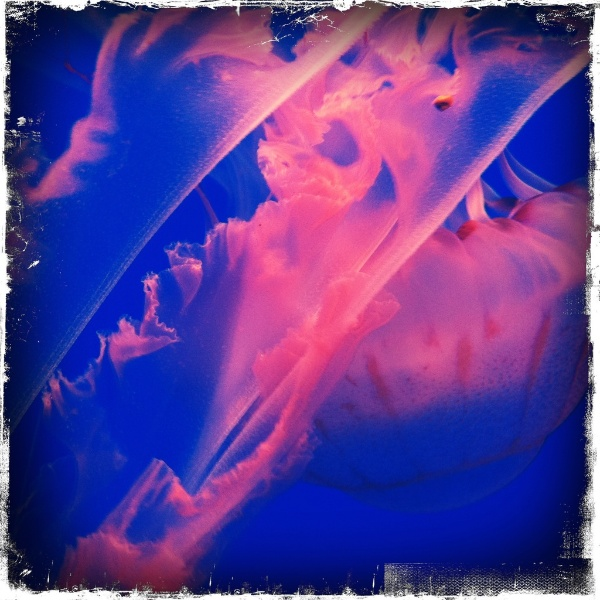Jellyfish: (9, 4, 590, 594)
